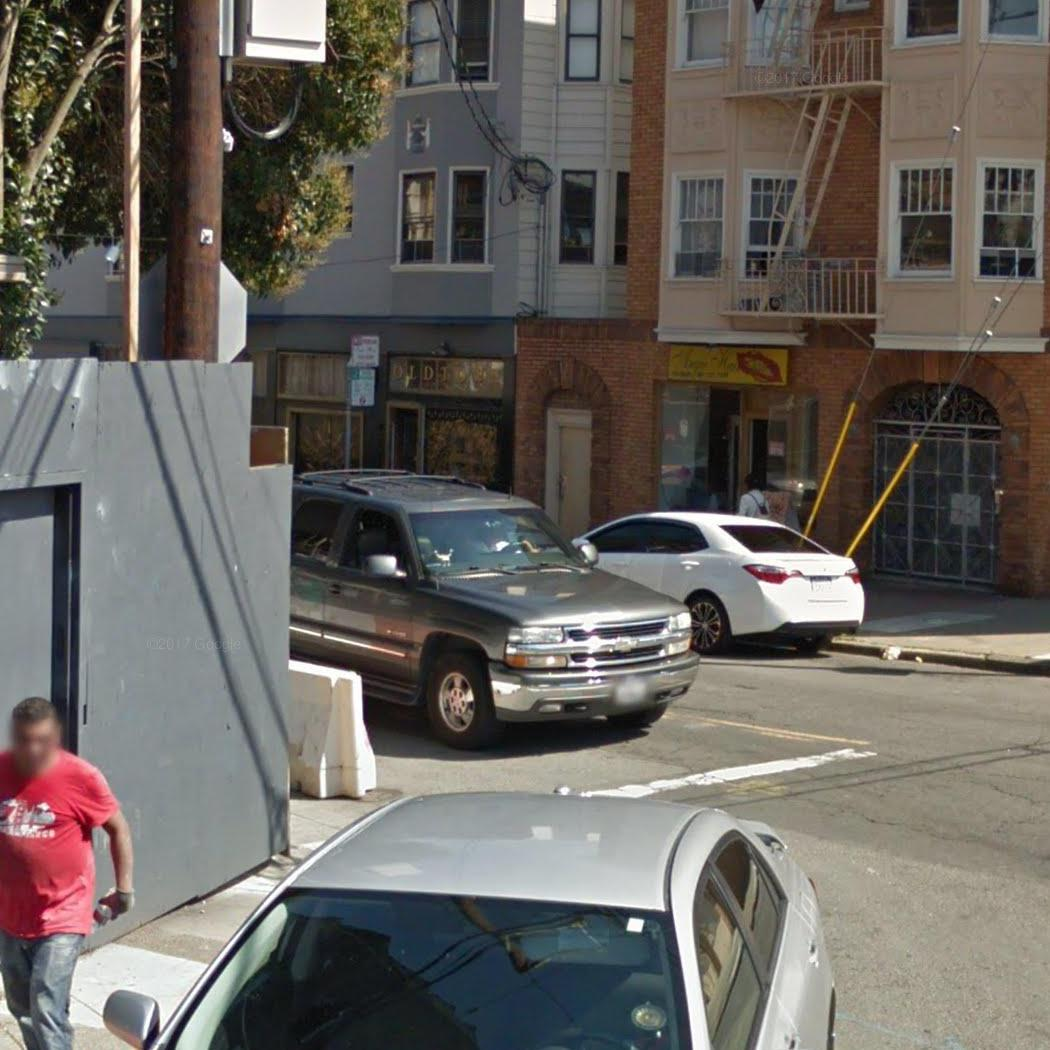2 Hour Parking: (348, 367, 377, 409)
No Parking: (348, 333, 381, 368)
